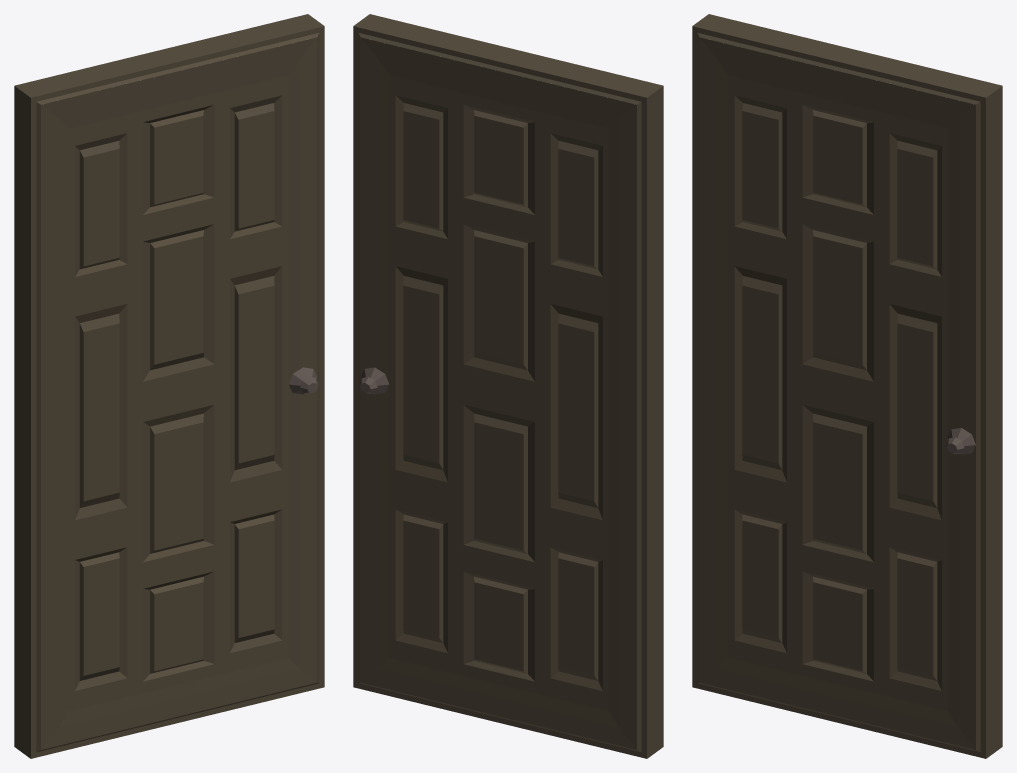
Rendered from entrance-door-classic.glb.
3 renders of one model, left to right at view 1: azimuth 30°, elevation 25°; view 2: azimuth 150°, elevation 25°; view 3: azimuth 330°, elevation 25°, orthographic.
Parts seen in each view (by area): view 1: leaf, frame; view 2: leaf, frame; view 3: leaf, frame.
Part boxes in pixels (<box>): leaf: <box>41,37,318,749</box>; frame: <box>14,14,324,758</box>; leaf: <box>359,37,636,749</box>; frame: <box>353,14,663,758</box>; leaf: <box>699,37,975,749</box>; frame: <box>692,14,1002,758</box>.
Size of the model in its own units: 1 by 2.15 by 0.2285.
